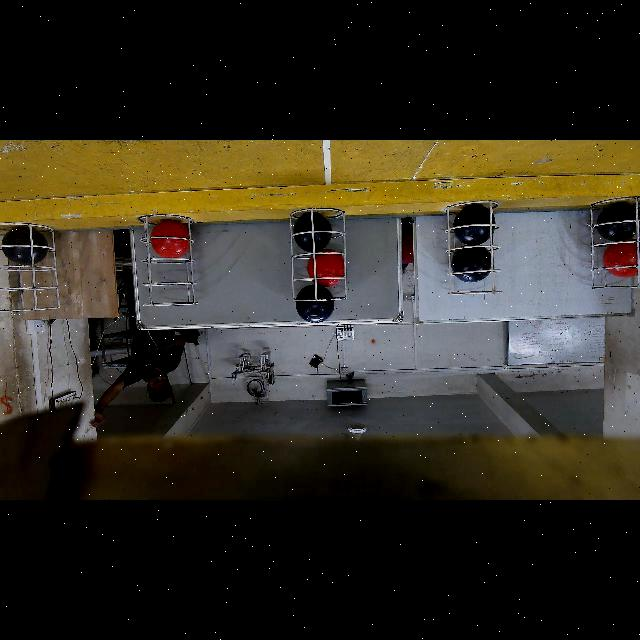P: (4, 228, 46, 266), (455, 207, 495, 245), (451, 247, 491, 283), (296, 286, 334, 323), (294, 214, 331, 252), (600, 201, 637, 239)
R: (150, 220, 191, 258), (602, 243, 637, 278), (307, 254, 344, 287)
S: (444, 202, 506, 296), (290, 214, 352, 304), (146, 215, 200, 312), (4, 230, 62, 314), (584, 206, 638, 290)
